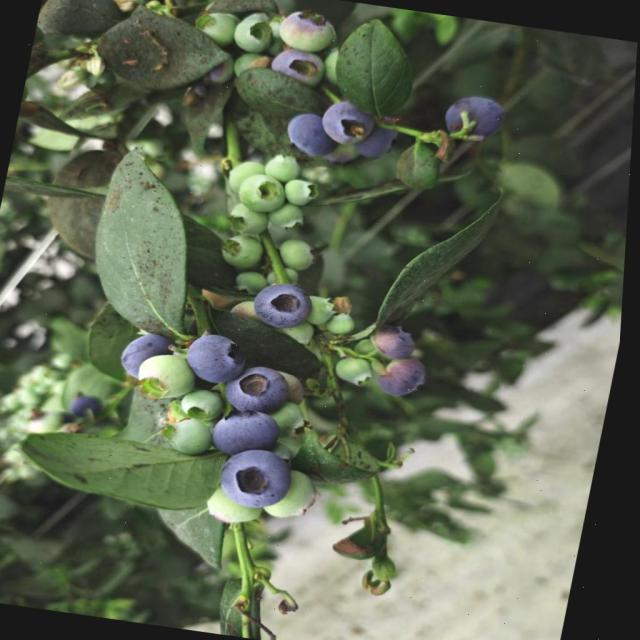RipeBlueBerry: (432, 78, 526, 148), (207, 396, 297, 468), (219, 449, 297, 508), (320, 88, 388, 153), (368, 309, 442, 367), (254, 279, 325, 327)
Semi-RipeBlueBerry: (384, 352, 431, 396)
UnripeBlueBerry: (178, 317, 256, 389), (134, 349, 202, 406), (212, 228, 274, 276), (237, 172, 295, 212), (227, 9, 277, 53)
